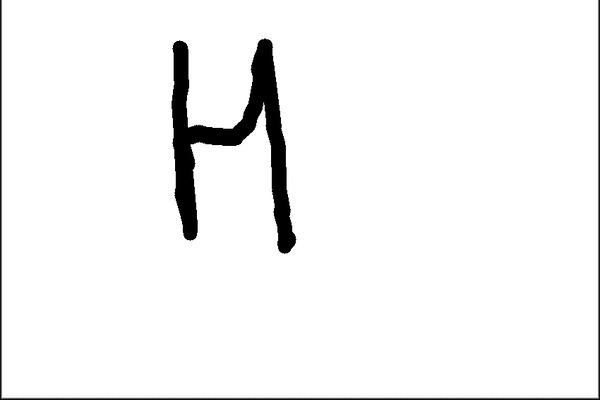H: (161, 32, 299, 255)
